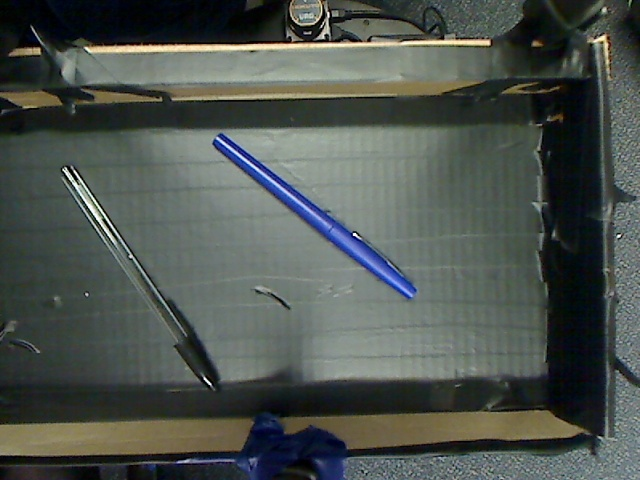pen: (43, 160, 231, 409), (196, 121, 430, 309)
